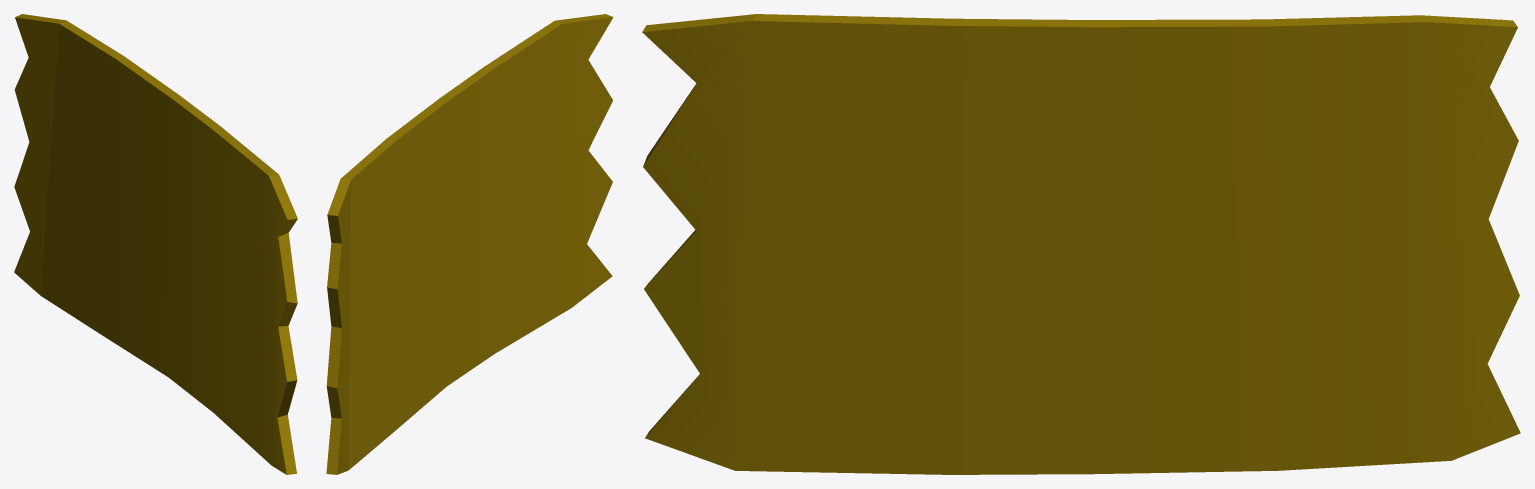
File: ticket fbx.fbx
The picture shows the model from 3 angles, left to right: view 1: azimuth 30°, elevation 25°; view 2: azimuth 150°, elevation 25°; view 3: azimuth 270°, elevation 25°; orthographic projection. The views are drawn at different scales.
Parts seen in each view (by area): view 1: pCube1; view 2: pCube1; view 3: pCube1.
Part boxes in pixels (x1=…): pCube1: x1=14, y1=14, x2=297, y2=474; pCube1: x1=326, y1=14, x2=613, y2=474; pCube1: x1=642, y1=14, x2=1520, y2=474.
Size of the model in its own units: 0.0673 by 0.57 by 1.
